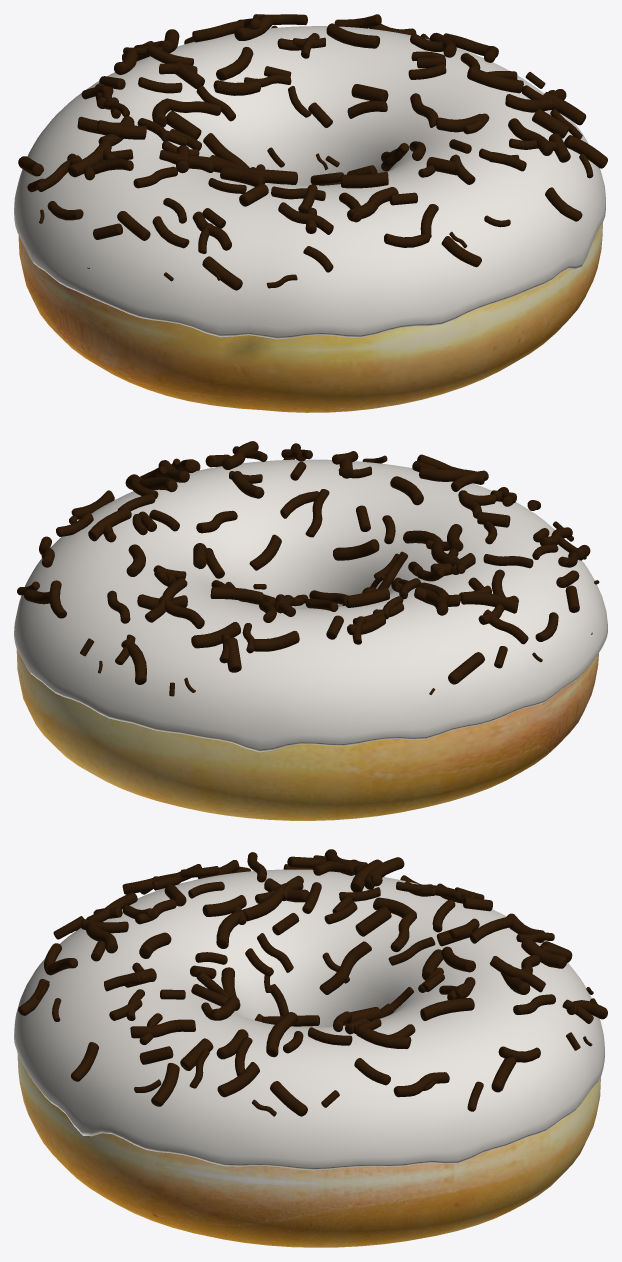
Rendered from white chocolate vermicheli.glb.
3 views of the same model, one above another, from view 1: azimuth 30°, elevation 25°; view 2: azimuth 150°, elevation 25°; view 3: azimuth 270°, elevation 25° (orthographic). The views are drawn at different scales.
Parts seen in each view (by area): view 1: chocolate.003, w chocolate, Torus; view 2: chocolate.003, Torus, w chocolate; view 3: chocolate.003, w chocolate, Torus.
Part boxes in pixels (<box>): chocolate.003: <box>14,26,605,339</box>; w chocolate: <box>18,14,607,290</box>; Torus: <box>18,222,602,412</box>; chocolate.003: <box>14,459,607,752</box>; Torus: <box>16,649,598,820</box>; w chocolate: <box>17,441,599,696</box>; chocolate.003: <box>14,869,604,1170</box>; w chocolate: <box>18,849,607,1116</box>; Torus: <box>17,1052,600,1247</box>.
Bounding box in the file's own units: 0.1988 × 0.0811 × 0.198.
Materials: 3 (1 with a texture image).
